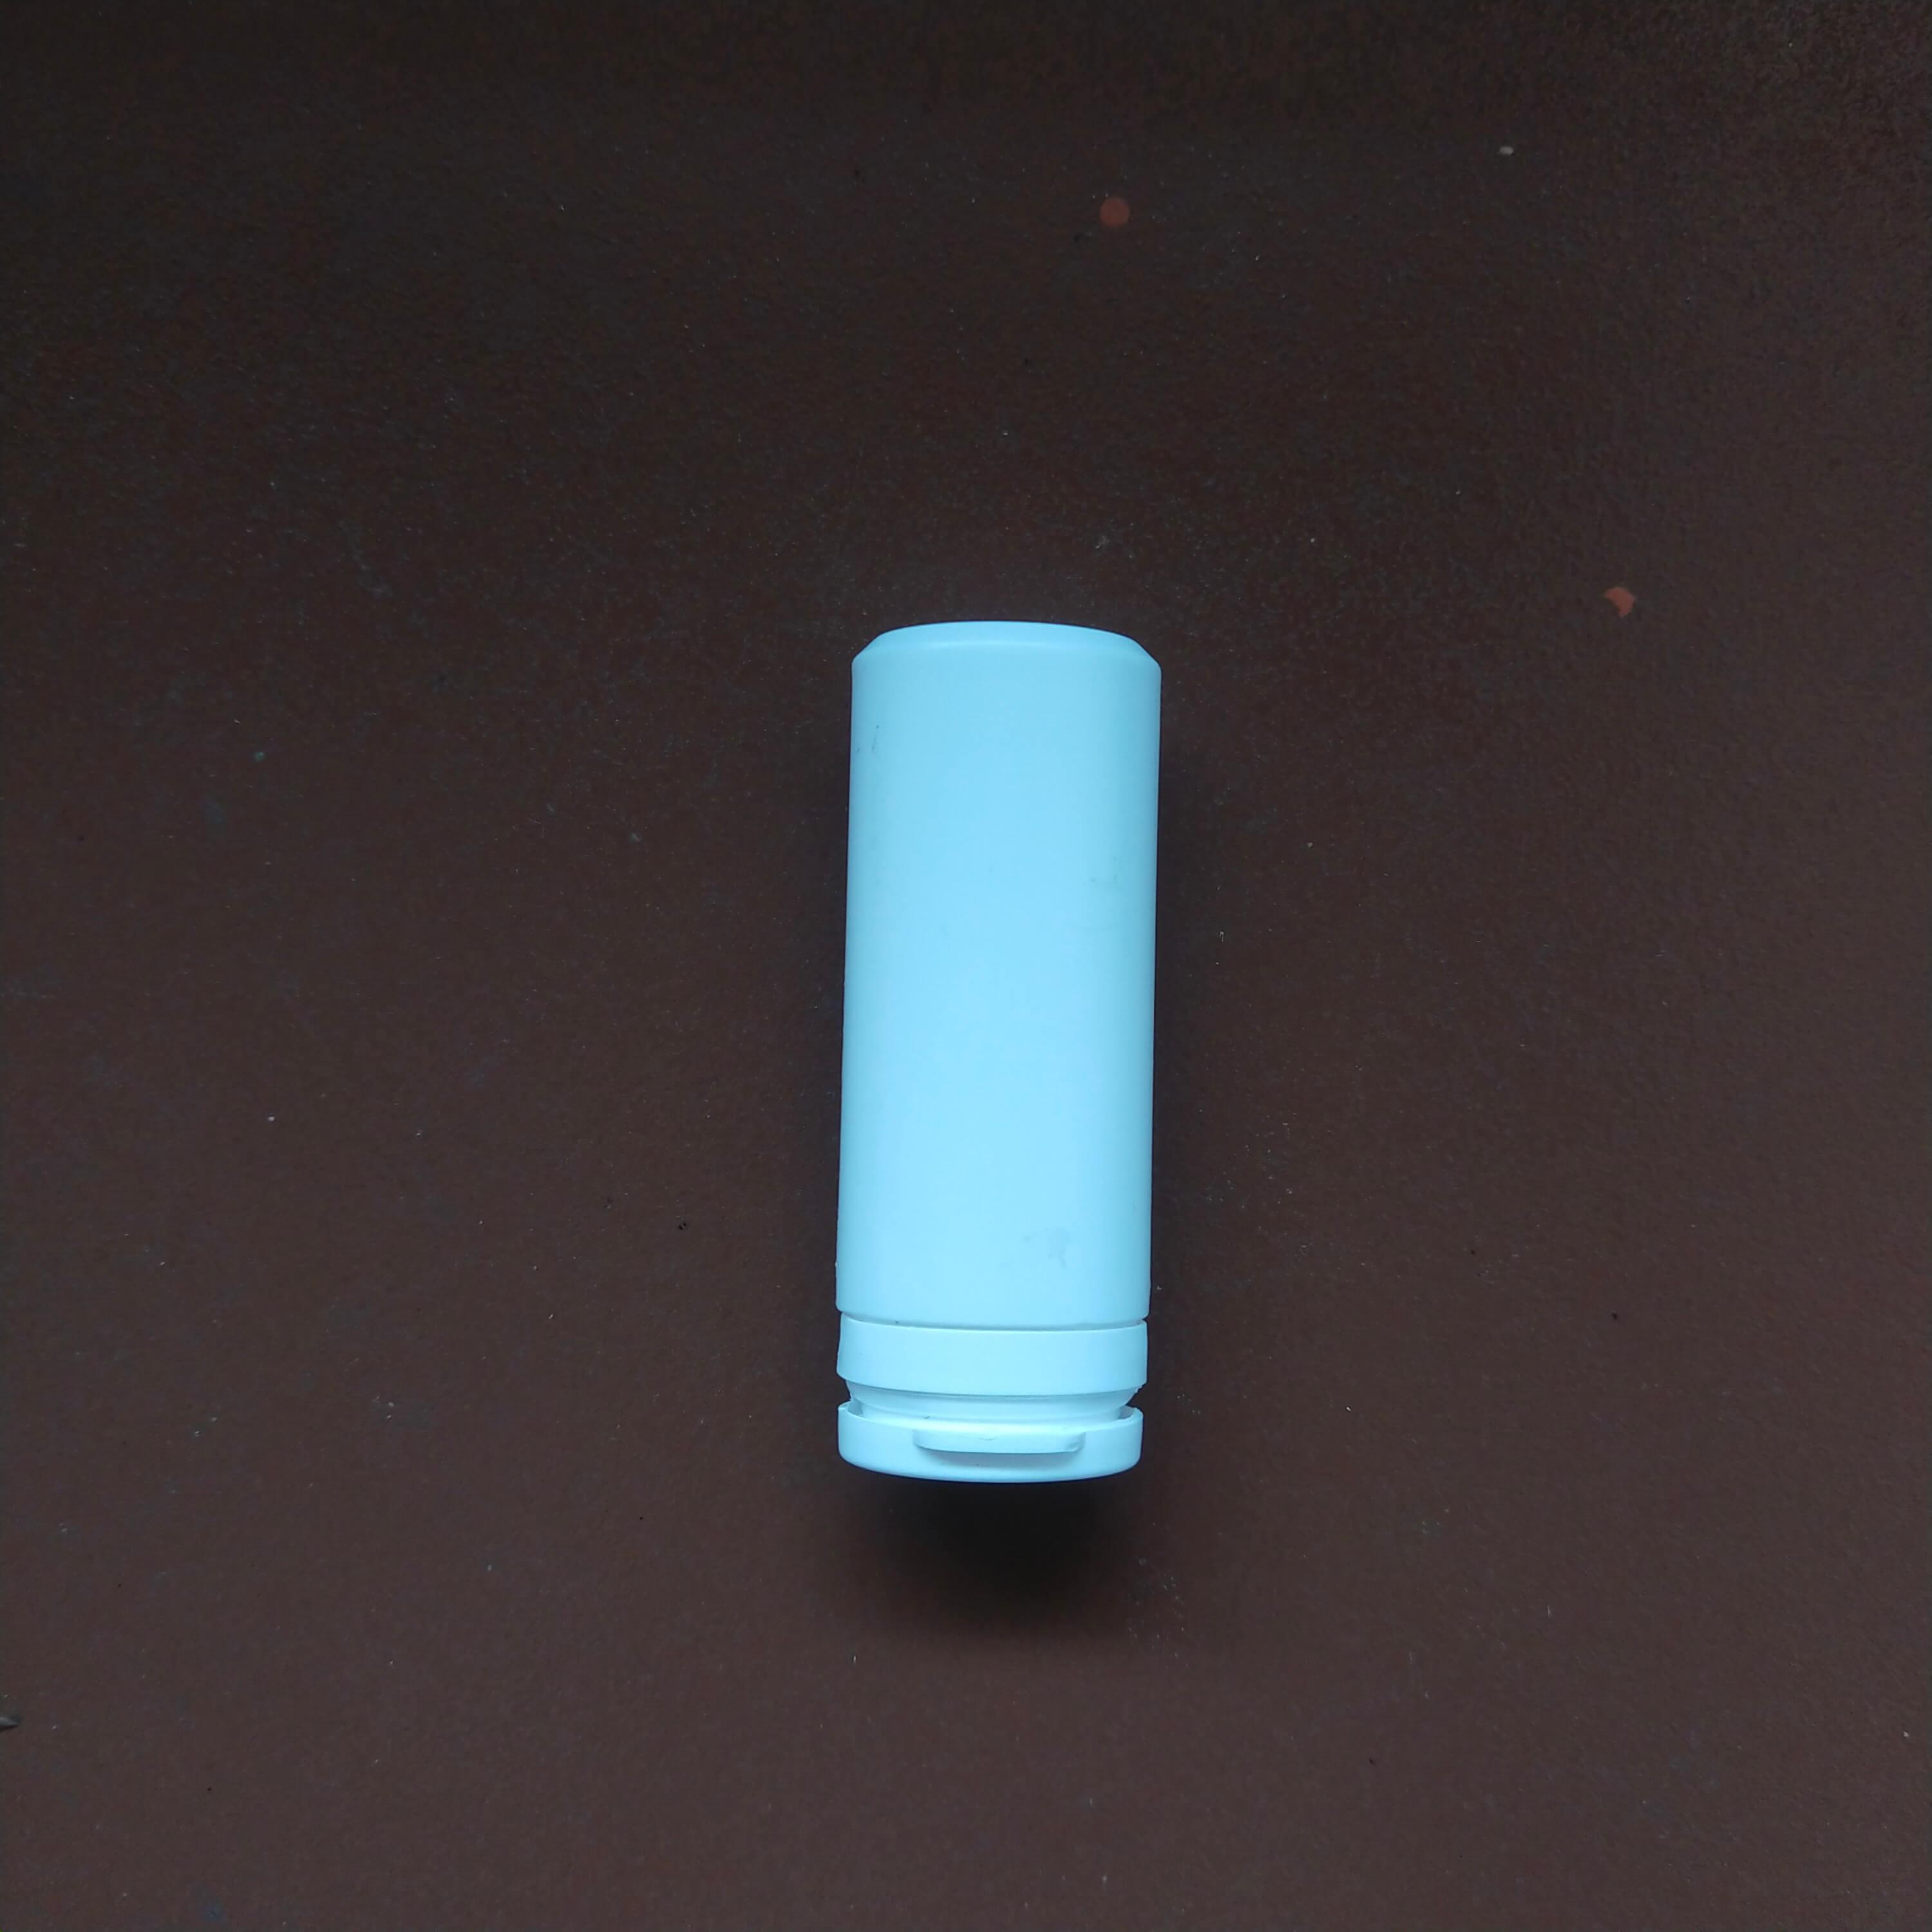plastic box: (800, 587, 1200, 1520)
